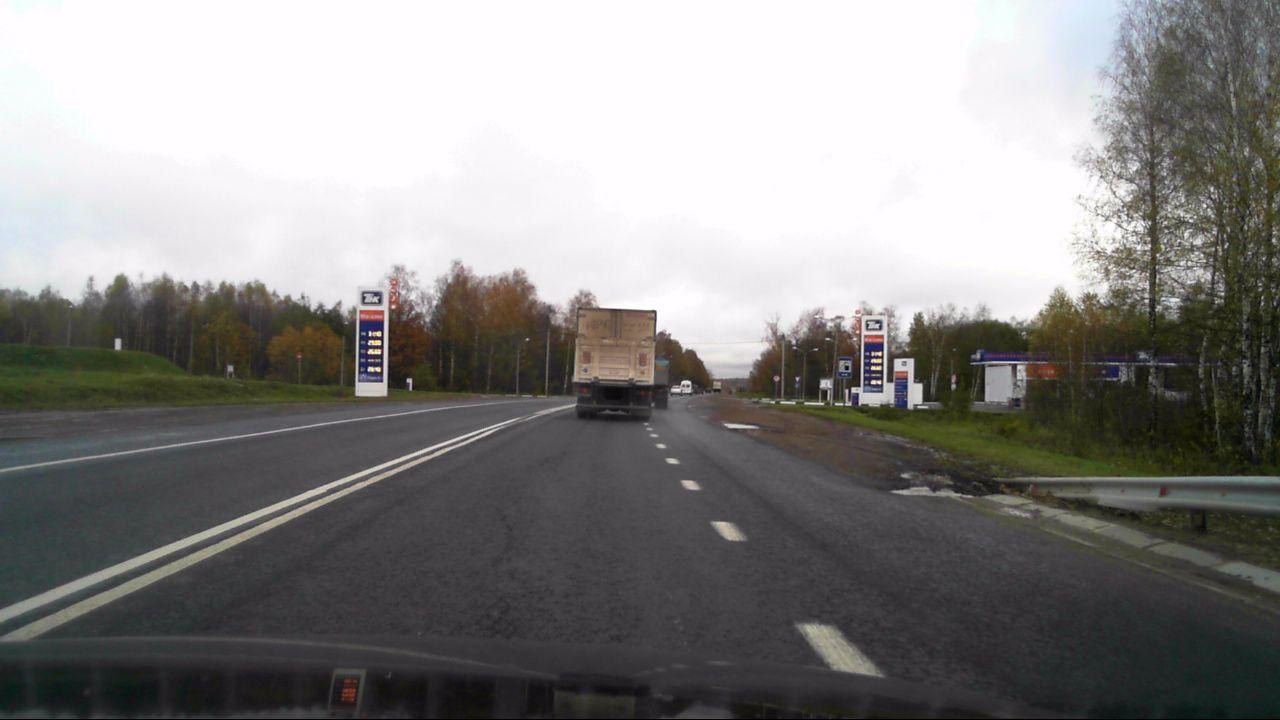7_3: (836, 356, 853, 378)
